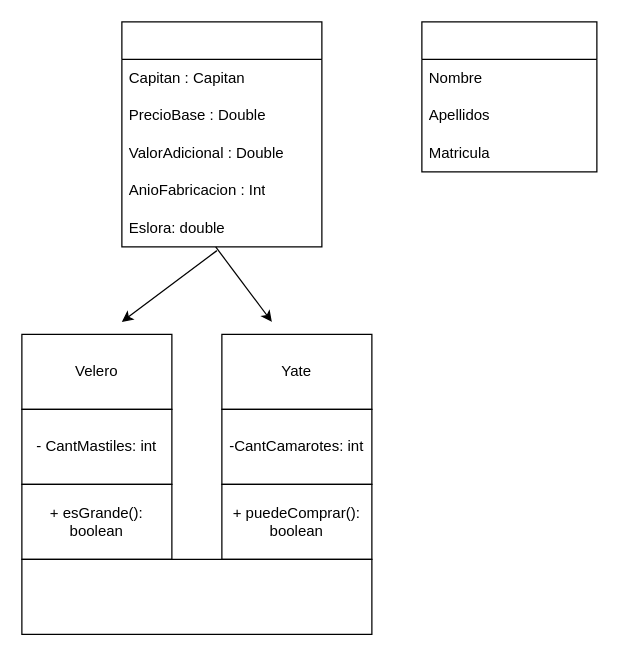
Image size: 619x656. Some labels were removed from this diagram. The shapes that lost their labels are listed below. From the top down, each one's box as (x1, y1, x2, y2) in pixels, then its label:
(421, 21, 597, 172): Capitan
(121, 21, 322, 247): Embarcación
(21, 558, 372, 634): + calcularMontoAlquiler(): double
